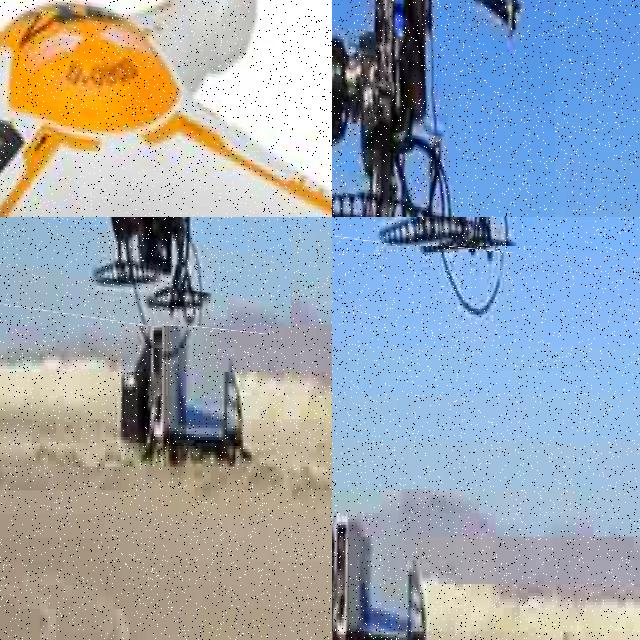drone: (0, 0, 332, 217), (332, 0, 555, 217), (0, 217, 291, 326)
